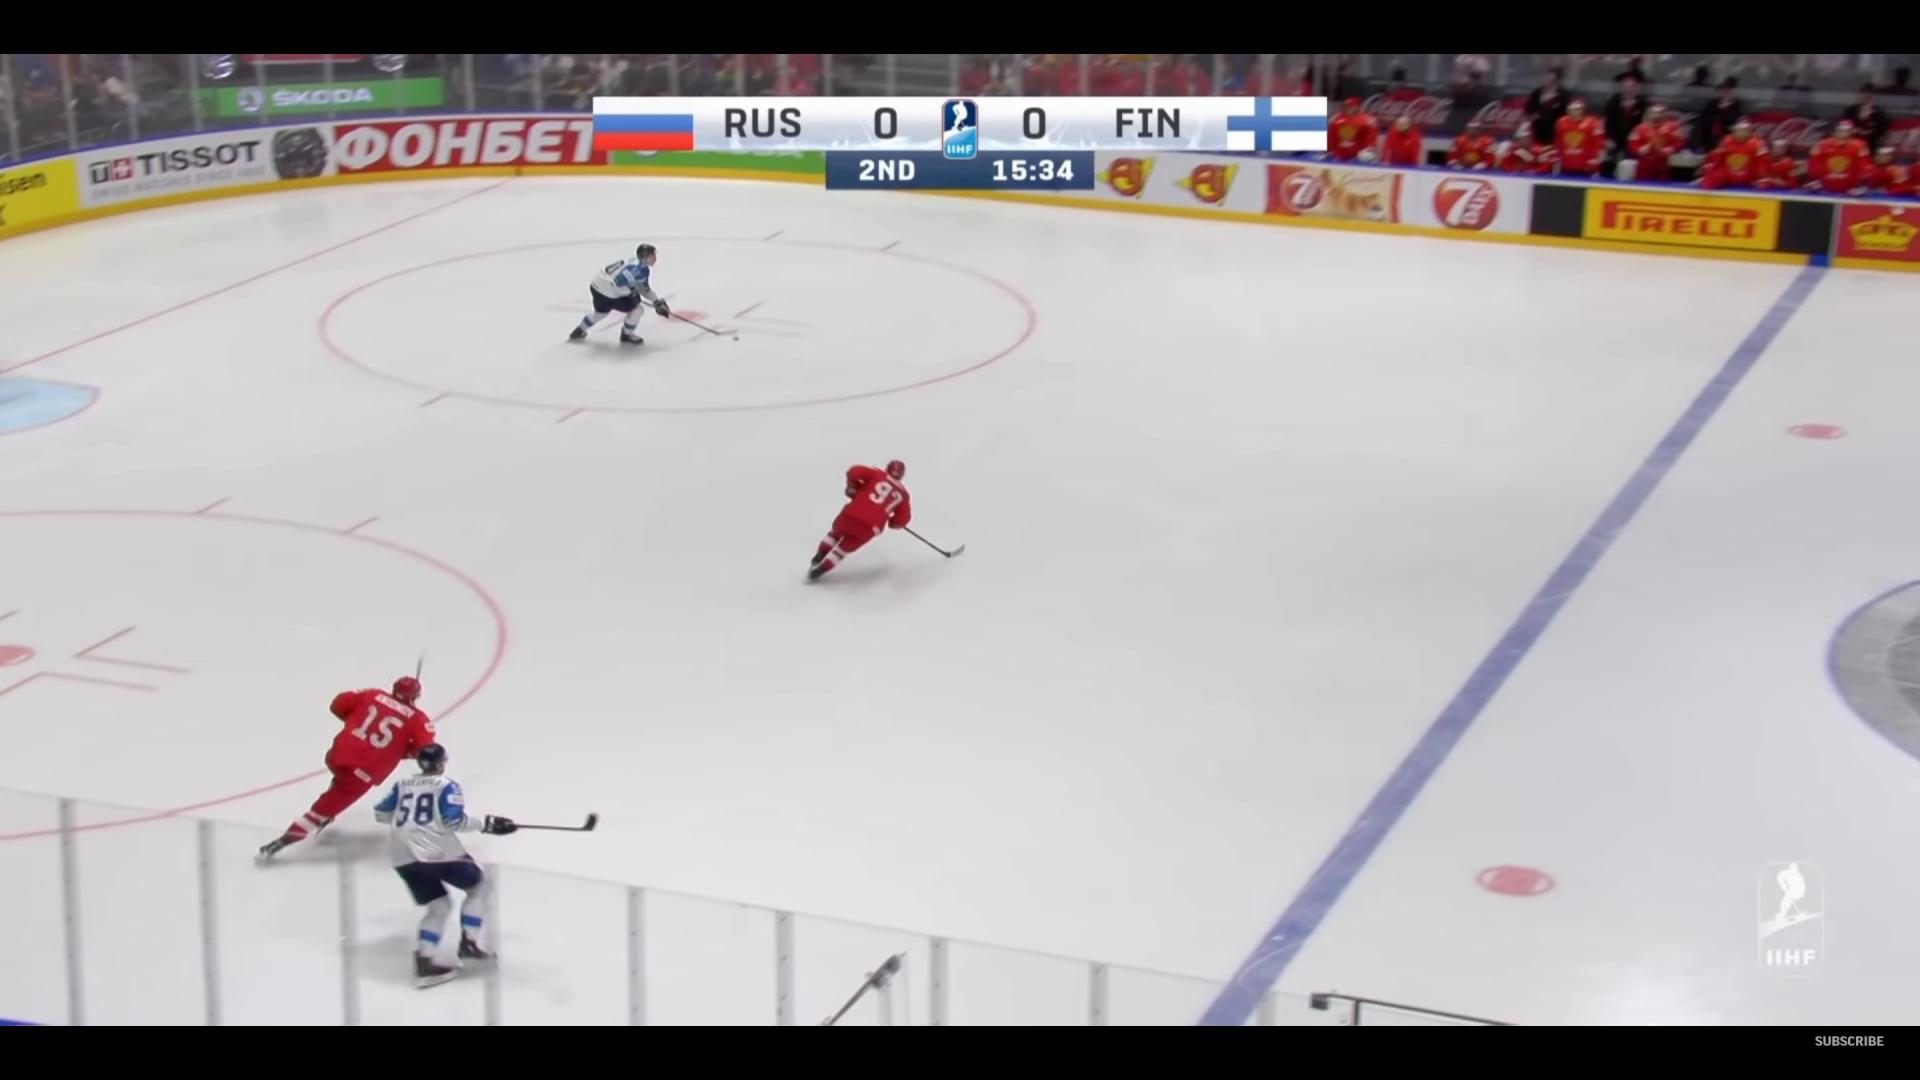puck: (732, 336, 738, 340)
